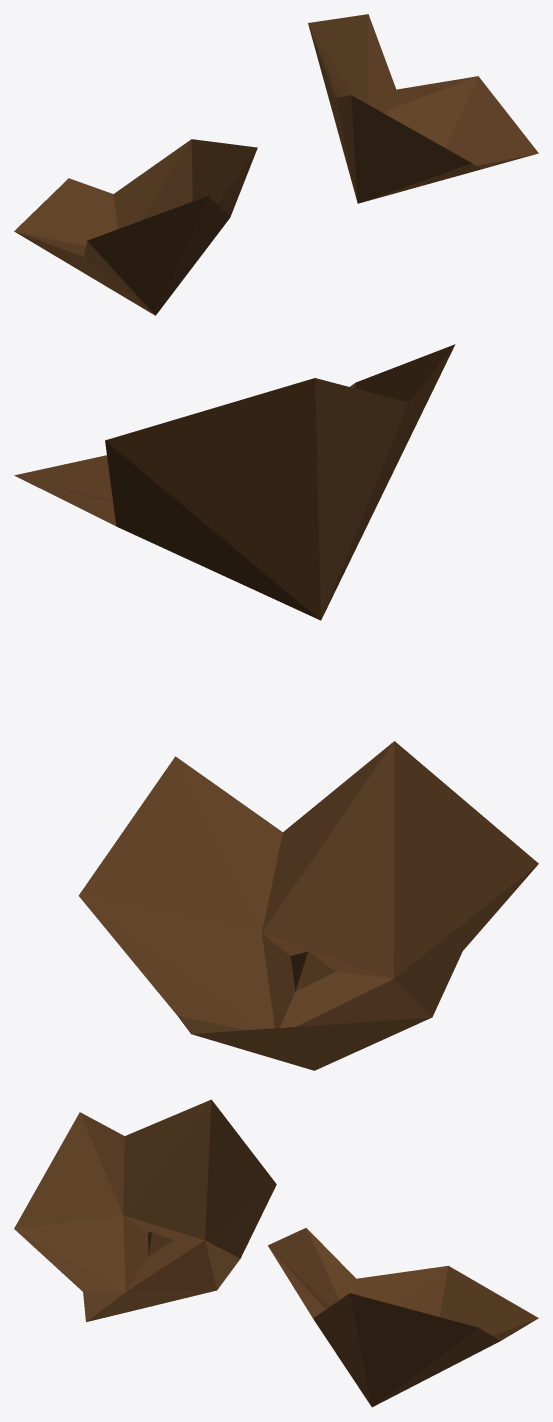
Rendered from SM_Flower_Poppy_Floating_Single_Mature_A.fbx.
3 views of the same model, one above another, from view 1: azimuth 30°, elevation 25°; view 2: azimuth 150°, elevation 25°; view 3: azimuth 270°, elevation 25° (orthographic). The views are drawn at different scales.
Parts seen in each view (by area): view 1: flower-poppy-floating-single-mature-a; view 2: flower-poppy-floating-single-mature-a; view 3: flower-poppy-floating-single-mature-a.
Part boxes in pixels (x1=…): flower-poppy-floating-single-mature-a: x1=14, y1=14, x2=538, y2=315; flower-poppy-floating-single-mature-a: x1=14, y1=344, x2=538, y2=1070; flower-poppy-floating-single-mature-a: x1=14, y1=1099, x2=538, y2=1407.
Bounding box in the file's own units: 0.2259 × 0.2011 × 0.2757.
